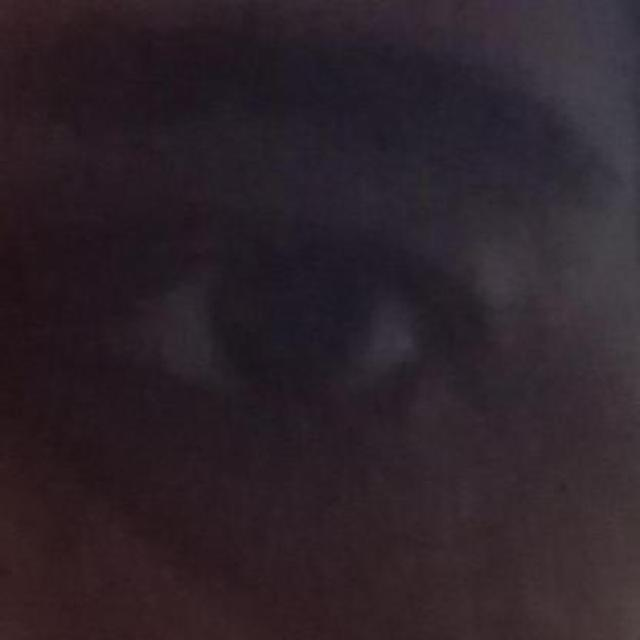awake: (104, 246, 421, 400)
